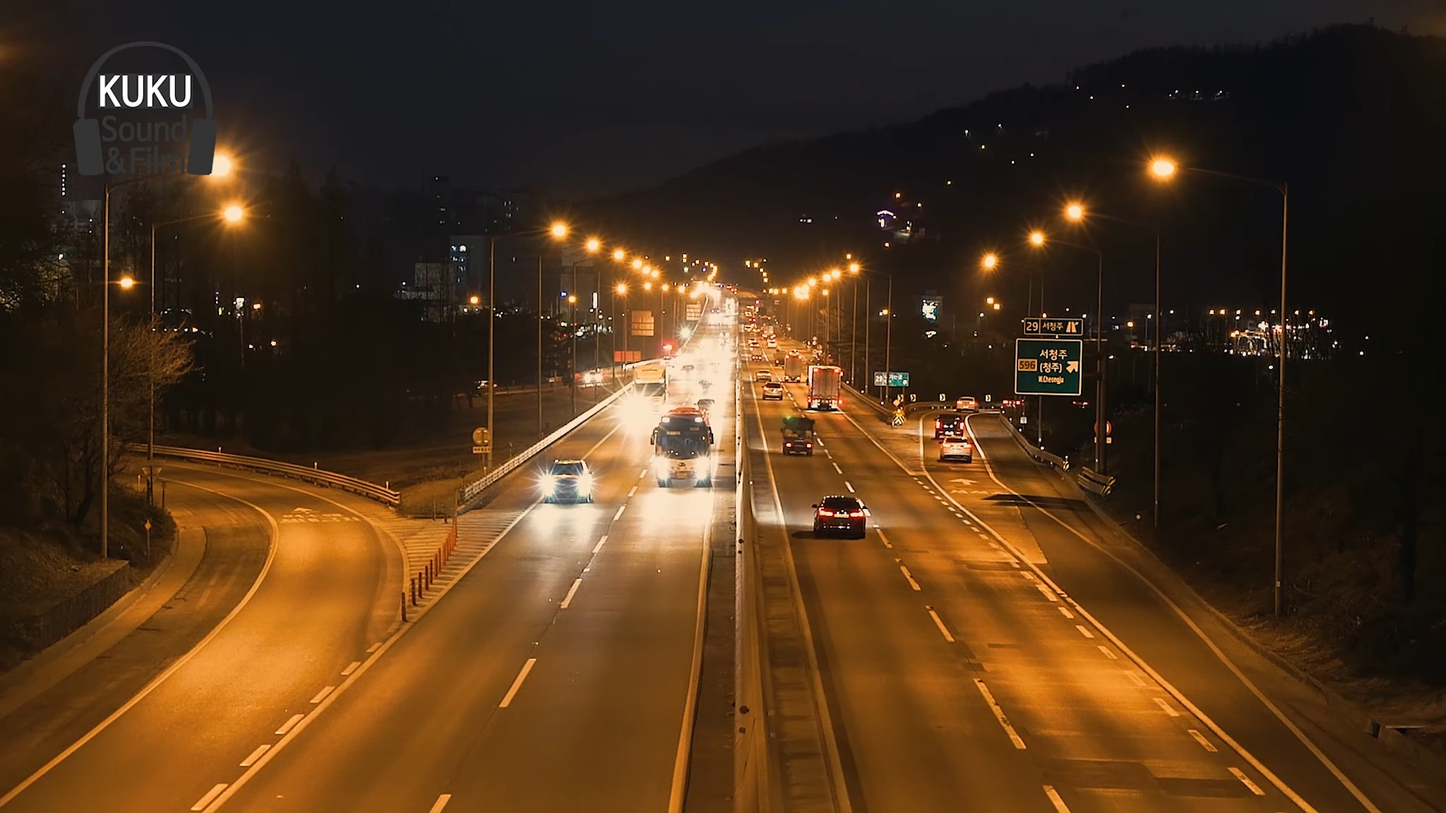car: (650, 422, 716, 495), (540, 457, 590, 501), (812, 491, 864, 533)
